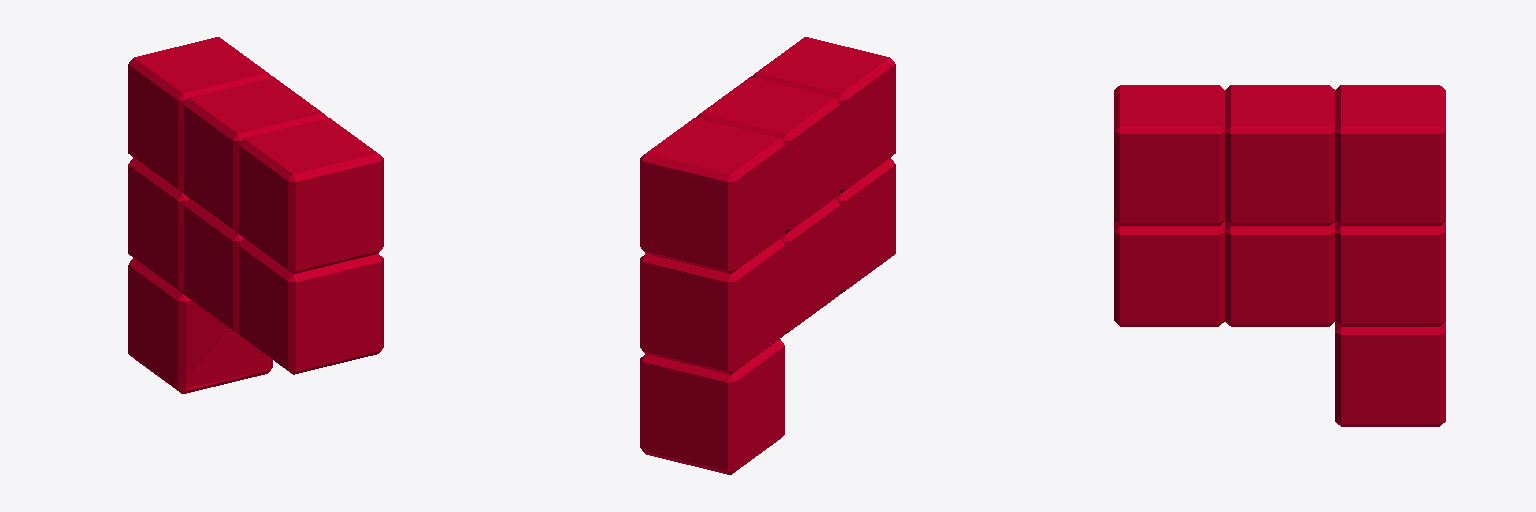
File: piece2.obj
3 views of the same model, side by side, from view 1: azimuth 30°, elevation 25°; view 2: azimuth 150°, elevation 25°; view 3: azimuth 270°, elevation 25° (orthographic).
Parts seen in each view (by area): view 1: Cube.002; view 2: Cube.002; view 3: Cube.002.
Part boxes in pixels (x1,y1,x2,y2): Cube.002: (128,37,383,393); Cube.002: (640,37,895,474); Cube.002: (1114,85,1445,426).
Bounding box in the file's own units: 2 × 6.01 × 6.